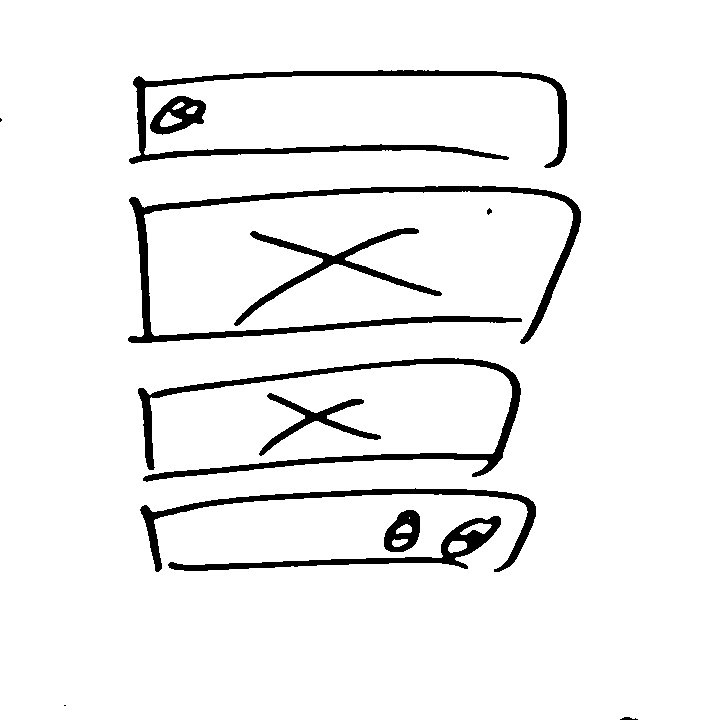inline stepper bar: (137, 487, 540, 576)
picture: (119, 183, 587, 347), (134, 354, 521, 479)
search bar: (126, 62, 580, 178)
